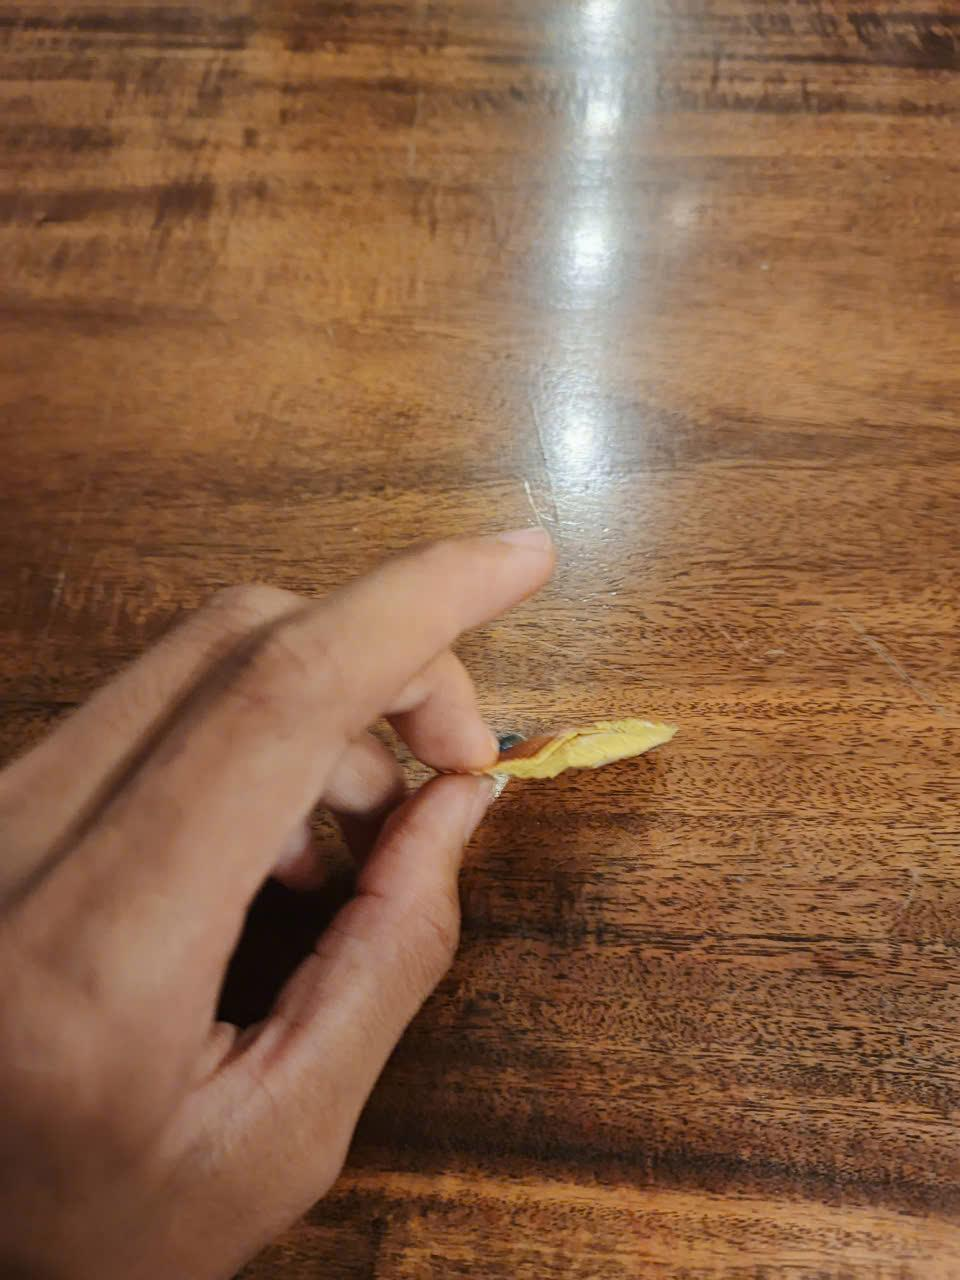Con lai: (480, 716, 678, 807)
